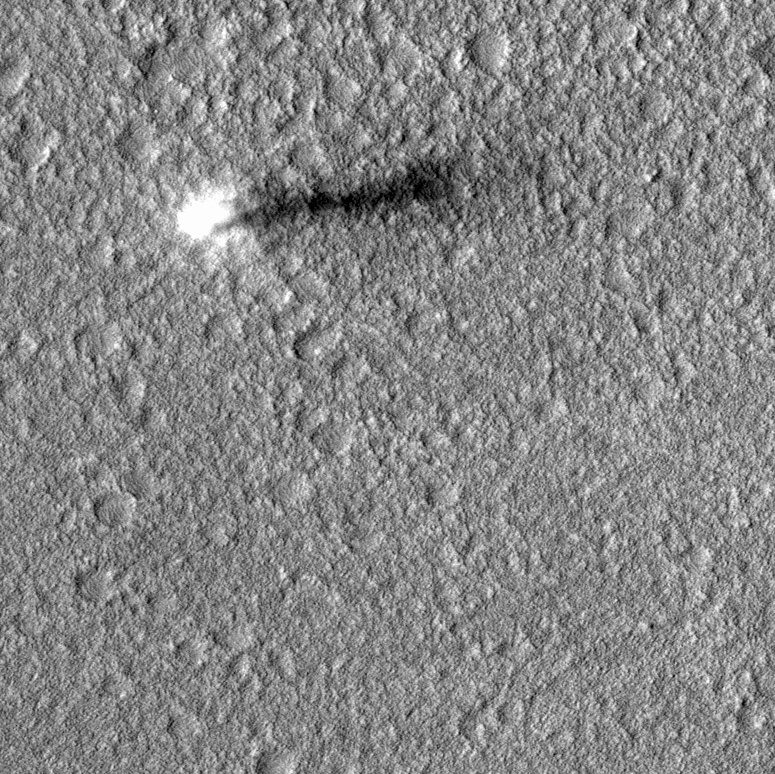dust_devil: (171, 154, 472, 245)
